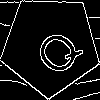Q: (25, 20, 86, 81)
